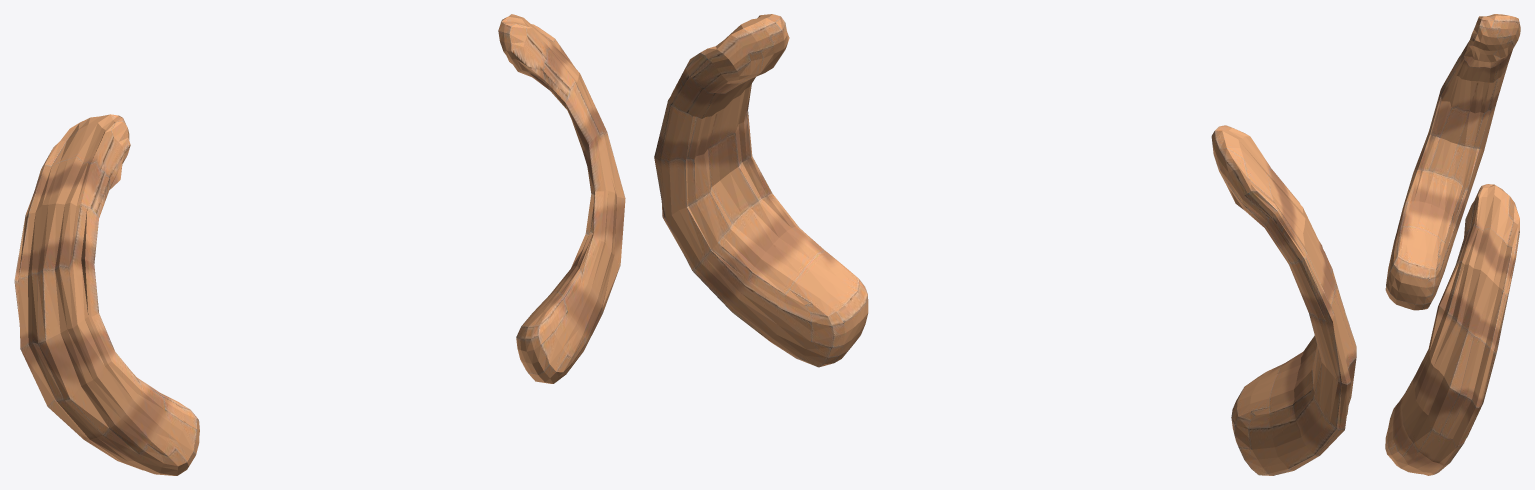
File: mhw_freezychan_lucoa_quetzalcoatl_horns.glb
3 views of the same model, side by side, from view 1: azimuth 30°, elevation 25°; view 2: azimuth 150°, elevation 25°; view 3: azimuth 270°, elevation 25° (orthographic). The views are drawn at different scales.
Visible parts, largest first — view 1: mhw_freezychan_lucoa_quetzalcoatl_horns; view 2: mhw_freezychan_lucoa_quetzalcoatl_horns; view 3: mhw_freezychan_lucoa_quetzalcoatl_horns.
Part boxes in pixels (box(x1,y1,x2,y2)): mhw_freezychan_lucoa_quetzalcoatl_horns: box(14, 14, 625, 475); mhw_freezychan_lucoa_quetzalcoatl_horns: box(654, 14, 1356, 475); mhw_freezychan_lucoa_quetzalcoatl_horns: box(1385, 14, 1520, 475).
Bounding box in the file's own units: 0.2045 × 0.1079 × 0.0454.
Materials: 1 (1 with a texture image).
